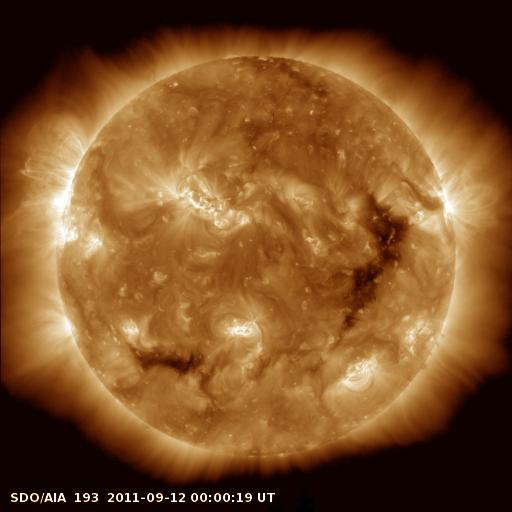coronal_hole: (342, 190, 412, 334), (132, 346, 199, 372)
